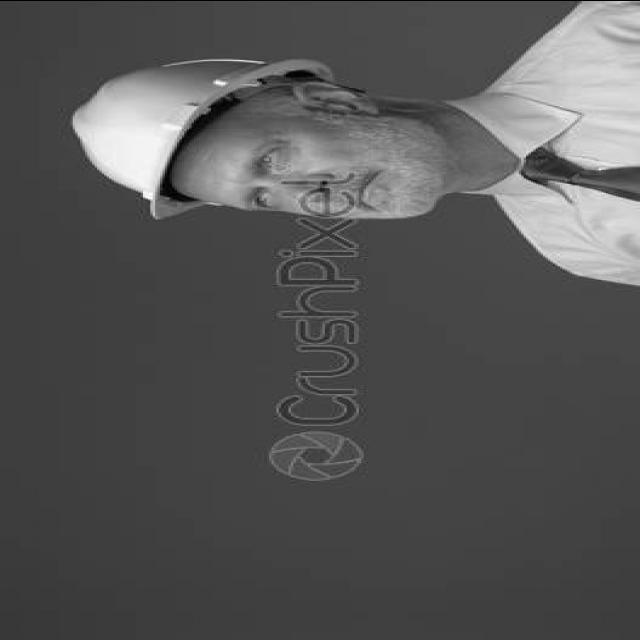safety_helmet: (70, 56, 335, 219)
